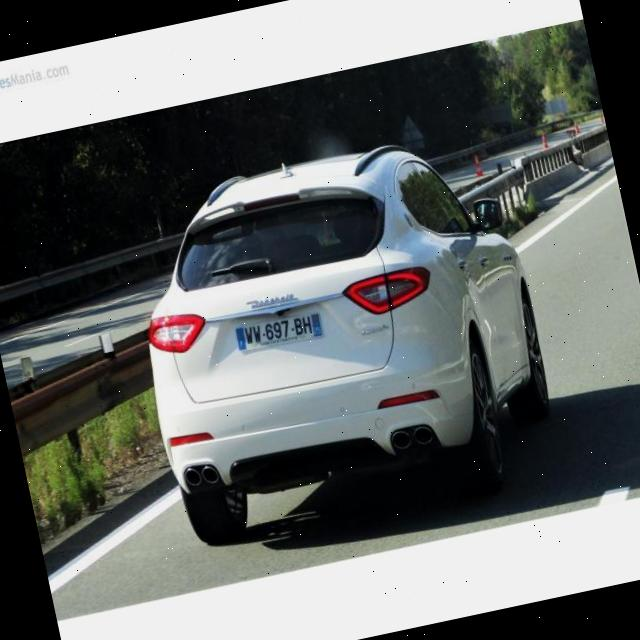EU: (235, 310, 326, 354)
France: (234, 326, 245, 348)
